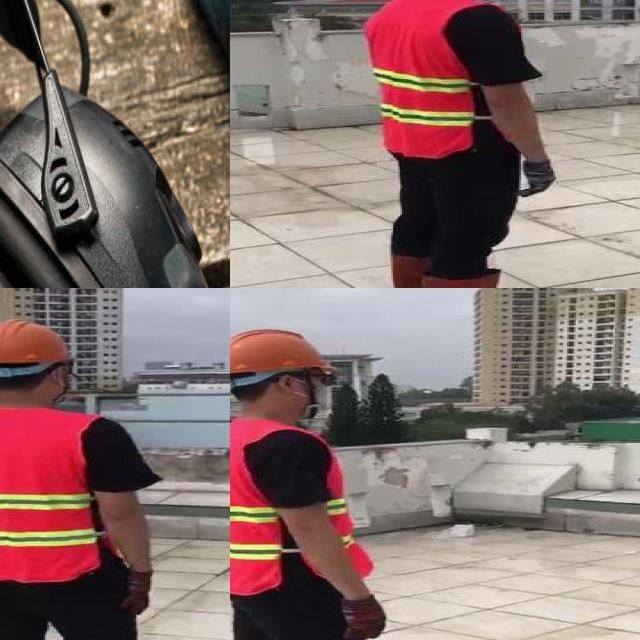Ear-protection: (0, 0, 218, 288)
boots: (390, 250, 477, 288), (423, 267, 547, 288)
hand_glove: (336, 599, 389, 640), (516, 156, 558, 200), (120, 569, 152, 619)
head_helmet: (230, 325, 335, 374), (0, 318, 76, 368)
person: (230, 320, 443, 640), (352, 0, 573, 288), (0, 312, 163, 640)
vest: (230, 420, 367, 592), (0, 406, 111, 583), (363, 0, 482, 160)
